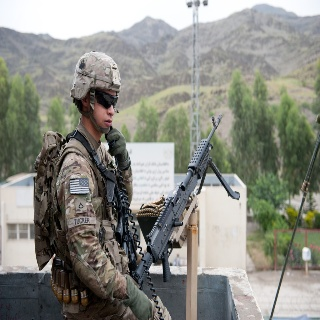rifle: (132, 112, 241, 288)
